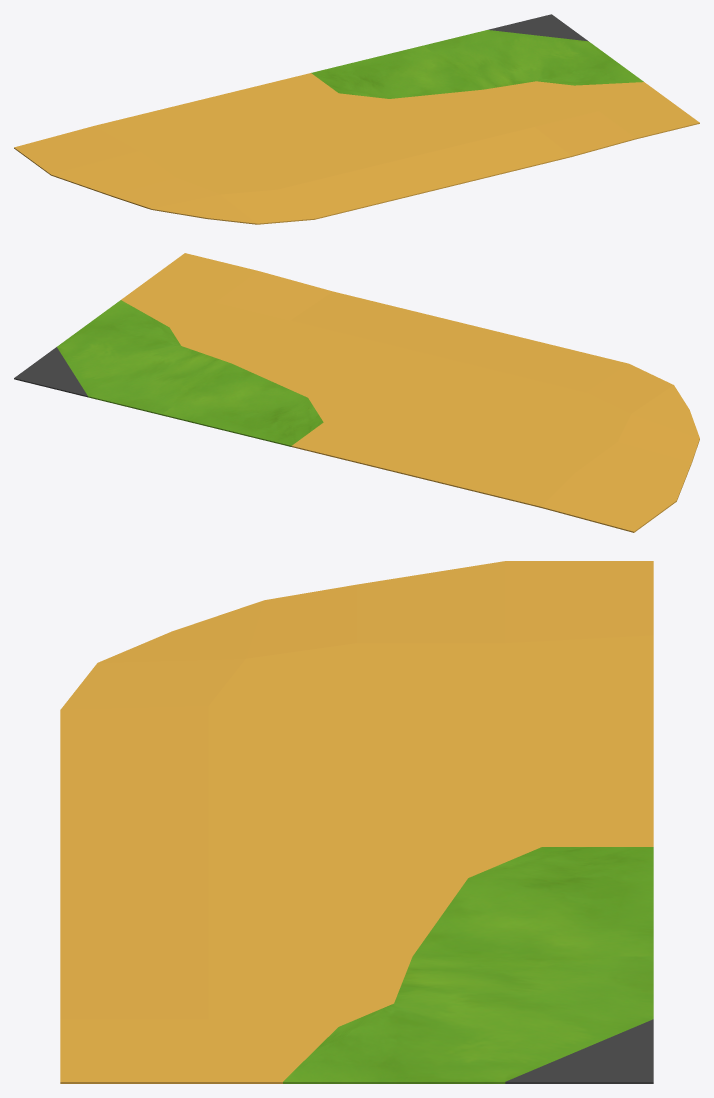
The picture shows the model from 3 angles, top to bottom: view 1: azimuth 30°, elevation 25°; view 2: azimuth 150°, elevation 25°; view 3: azimuth 270°, elevation 25°; orthographic projection. The views are drawn at different scales.
Visible parts, largest first — view 1: 01_street_base_plate-COL.044; view 2: 01_street_base_plate-COL.044; view 3: 01_street_base_plate-COL.044.
Part boxes in pixels (x1=…): 01_street_base_plate-COL.044: x1=14, y1=14, x2=699, y2=224; 01_street_base_plate-COL.044: x1=14, y1=253, x2=699, y2=532; 01_street_base_plate-COL.044: x1=60, y1=561, x2=653, y2=1083.
Size of the model in its own units: 536 by 2.92 by 256.
3 materials, 1 textured.
